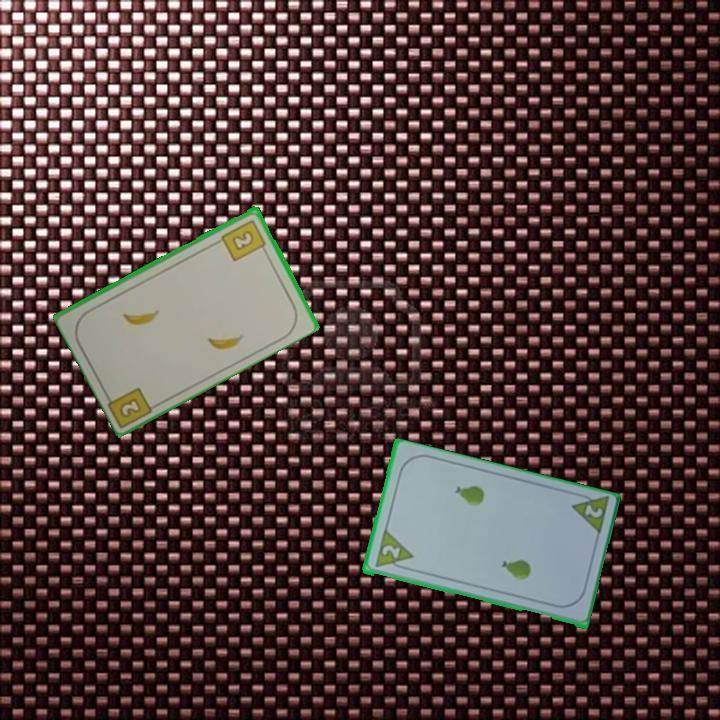2b: (218, 216, 269, 264), (116, 394, 145, 421)
2p: (378, 541, 403, 562), (581, 501, 605, 521)
